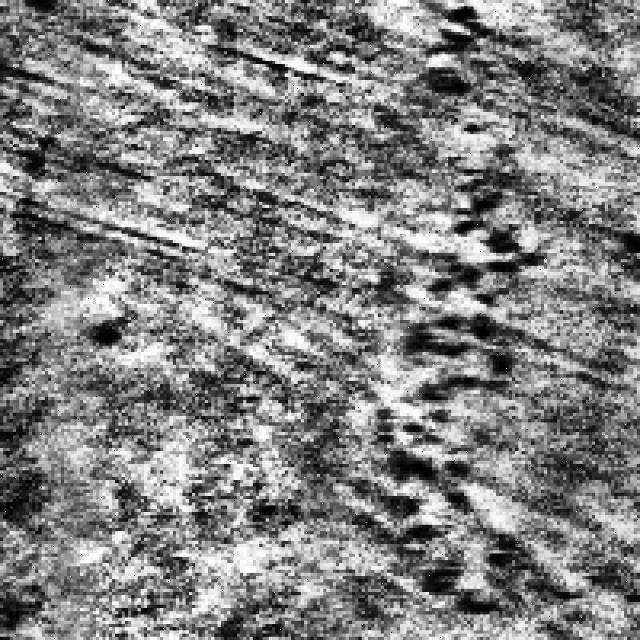Crazing: (368, 86, 563, 637), (420, 0, 535, 246)
